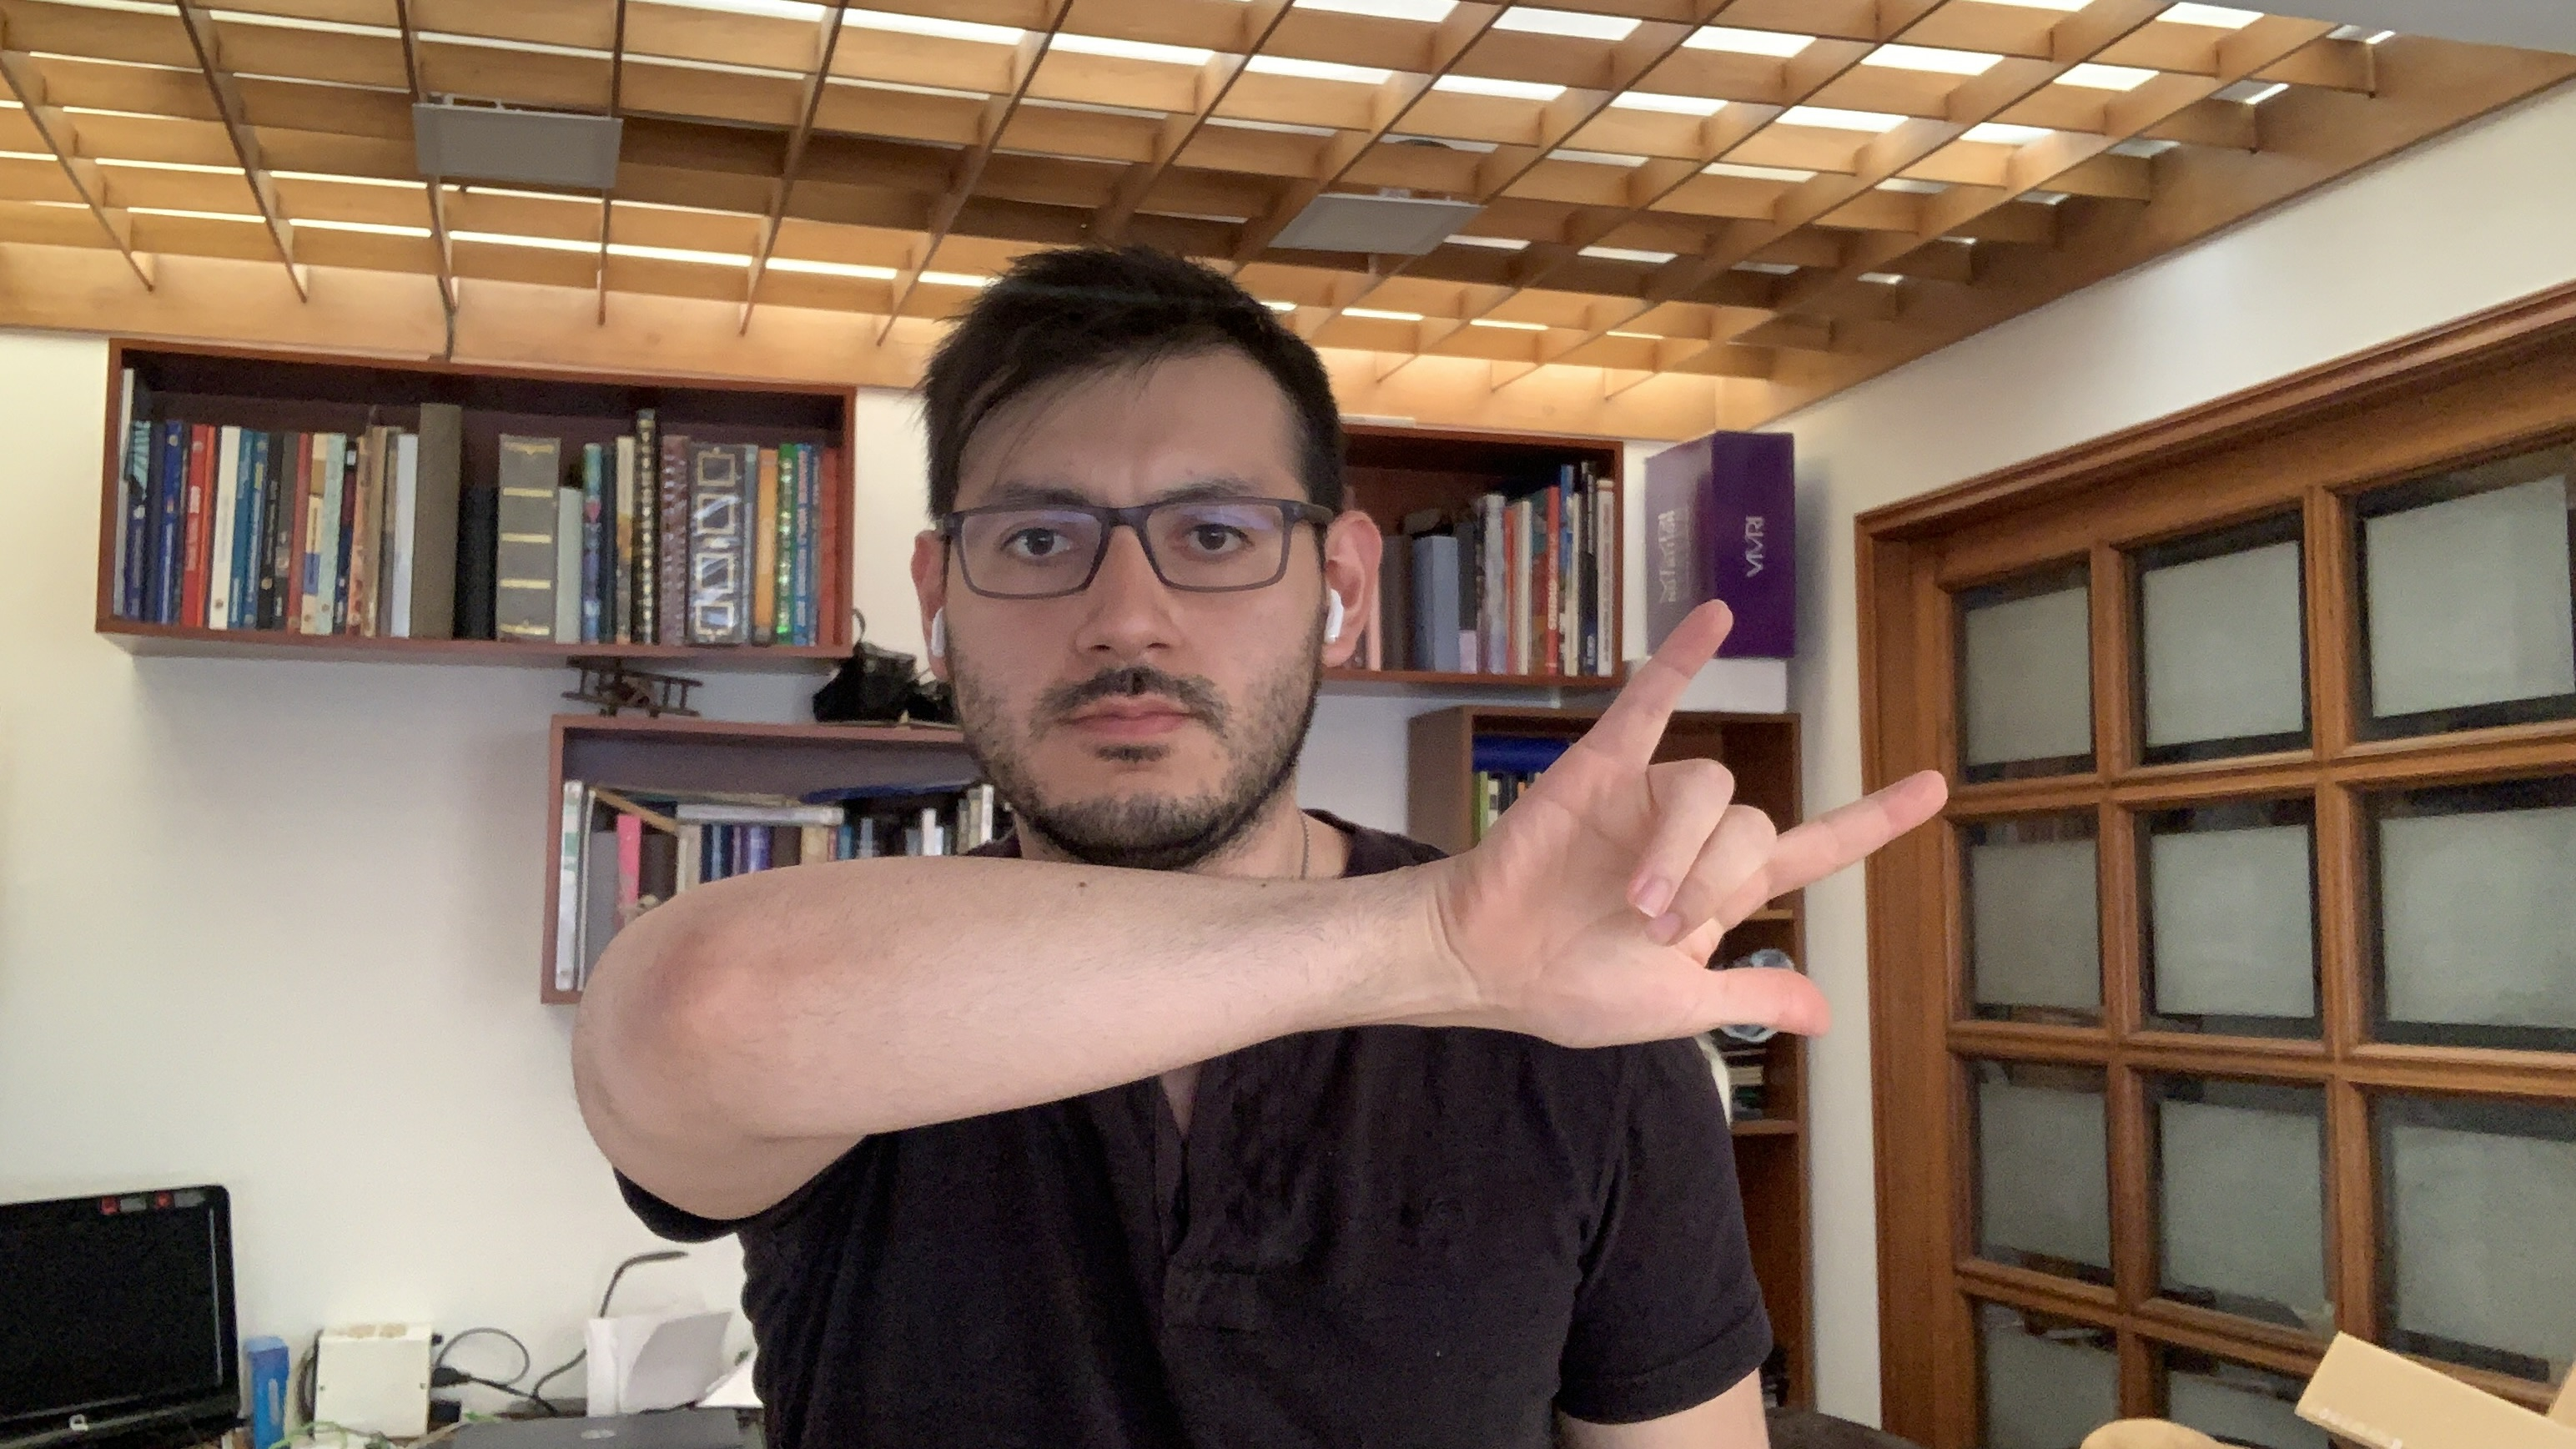I Love You: (1426, 591, 1964, 1065)
